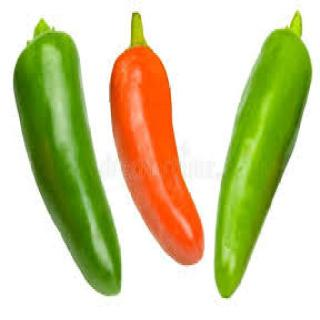Cabai Hijau: (7, 12, 131, 310), (208, 9, 319, 299)
Cabai Merah: (108, 21, 206, 265)
